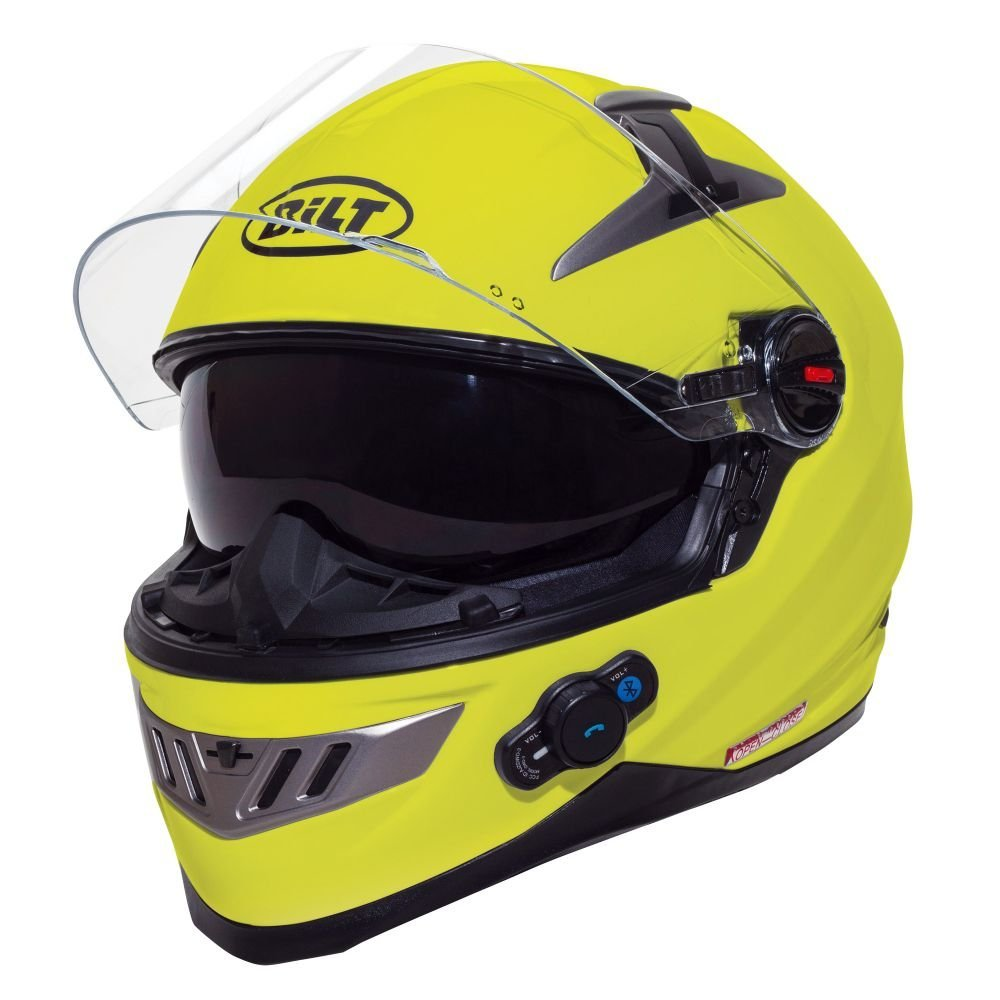with_helmet: (59, 31, 920, 973)
